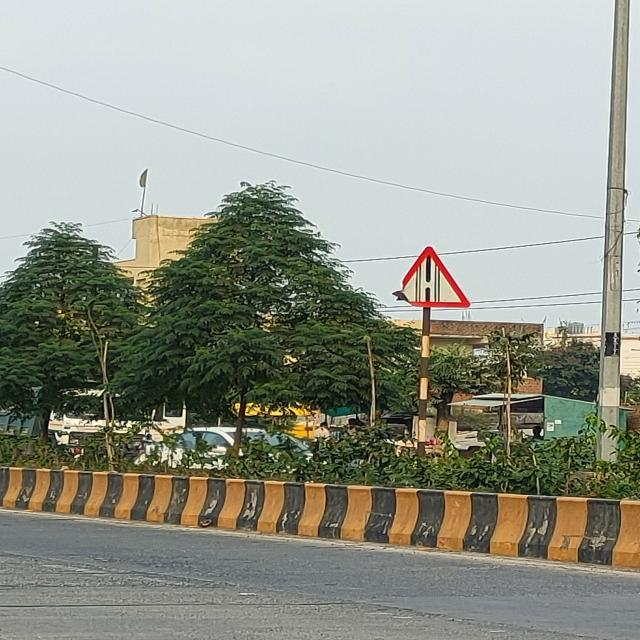gap in median: (397, 246, 474, 308)
